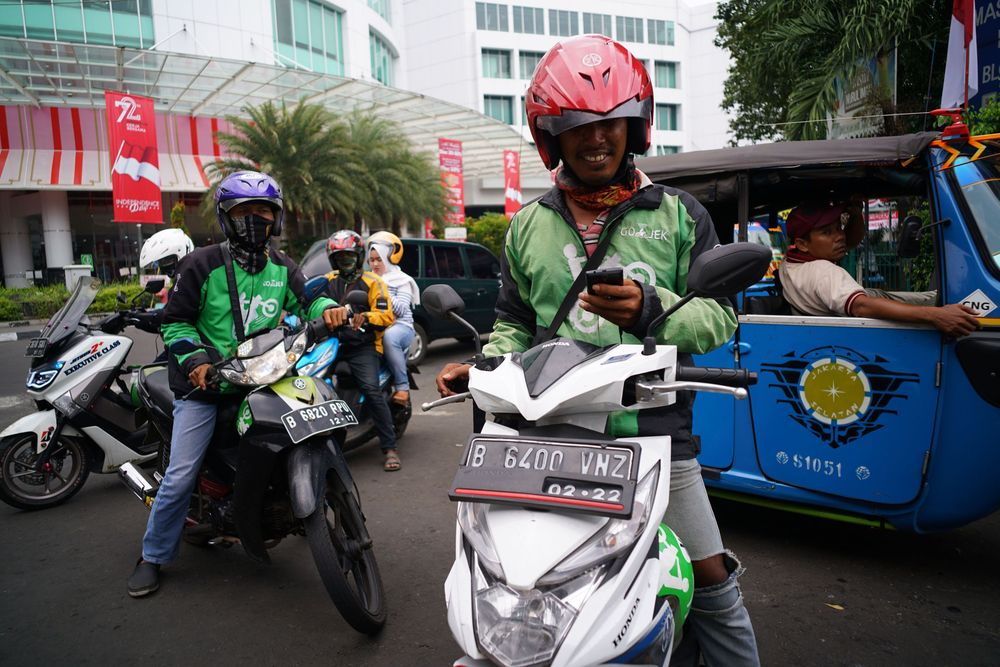dieu khien xe may: (444, 33, 692, 667)
su dung dien thoai: (528, 34, 657, 318)
